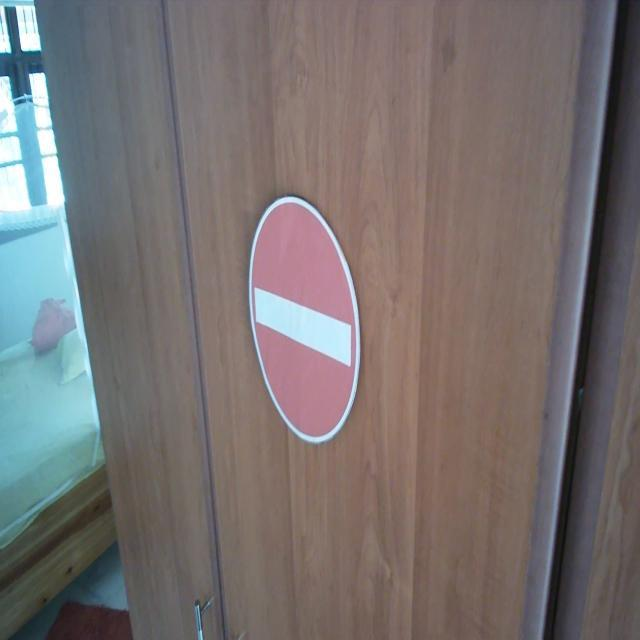no_entry: (246, 195, 362, 448)
